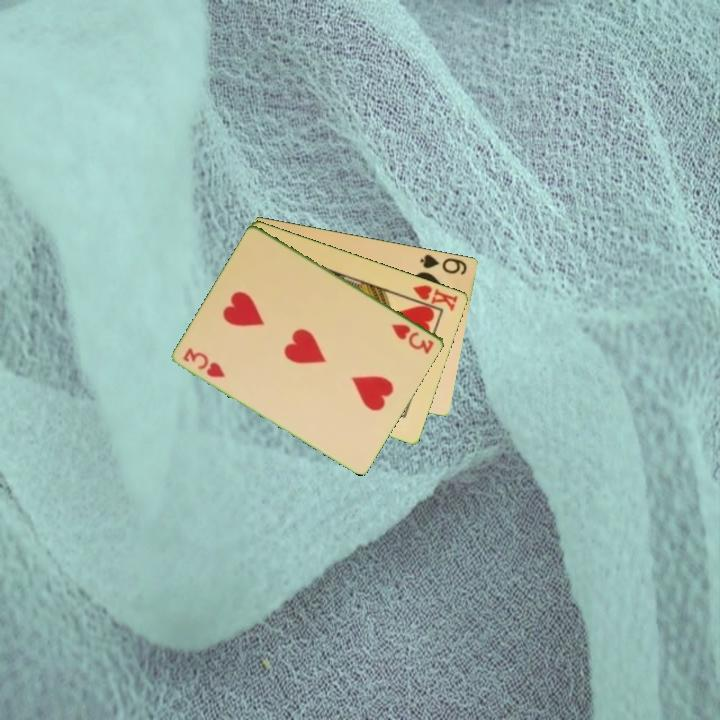3h: (388, 320, 438, 357), (180, 344, 229, 381)
6s: (417, 250, 470, 277)
Kh: (403, 281, 461, 314)
